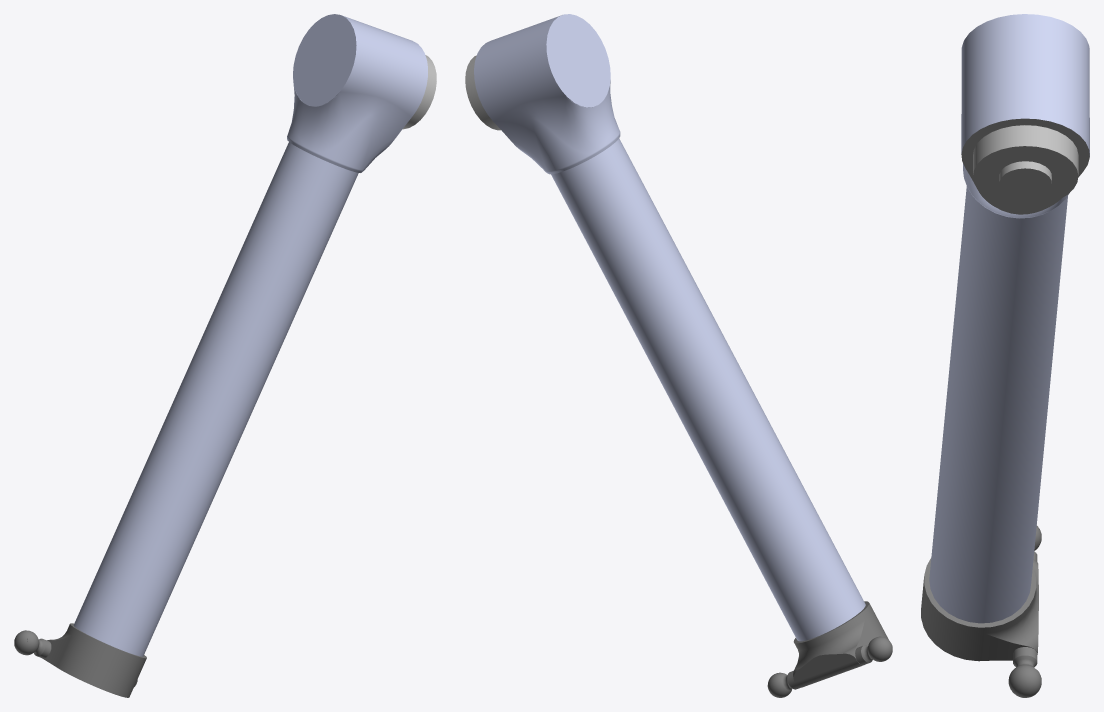
3 renders of one model, left to right at view 1: azimuth 30°, elevation 25°; view 2: azimuth 150°, elevation 25°; view 3: azimuth 270°, elevation 25°, orthographic. The views are drawn at different scales.
Parts seen in each view (by area): view 1: IRB360_6-1600-STD-4D_rev03_UA2_CAD; view 2: IRB360_6-1600-STD-4D_rev03_UA2_CAD; view 3: IRB360_6-1600-STD-4D_rev03_UA2_CAD.
Boxes of the visible parts, <box> form: IRB360_6-1600-STD-4D_rev03_UA2_CAD: <box>14,14,436,697</box>; IRB360_6-1600-STD-4D_rev03_UA2_CAD: <box>465,14,892,697</box>; IRB360_6-1600-STD-4D_rev03_UA2_CAD: <box>921,14,1089,697</box>.
Size of the model in its own units: 0.3611 by 0.5176 by 0.0958.
